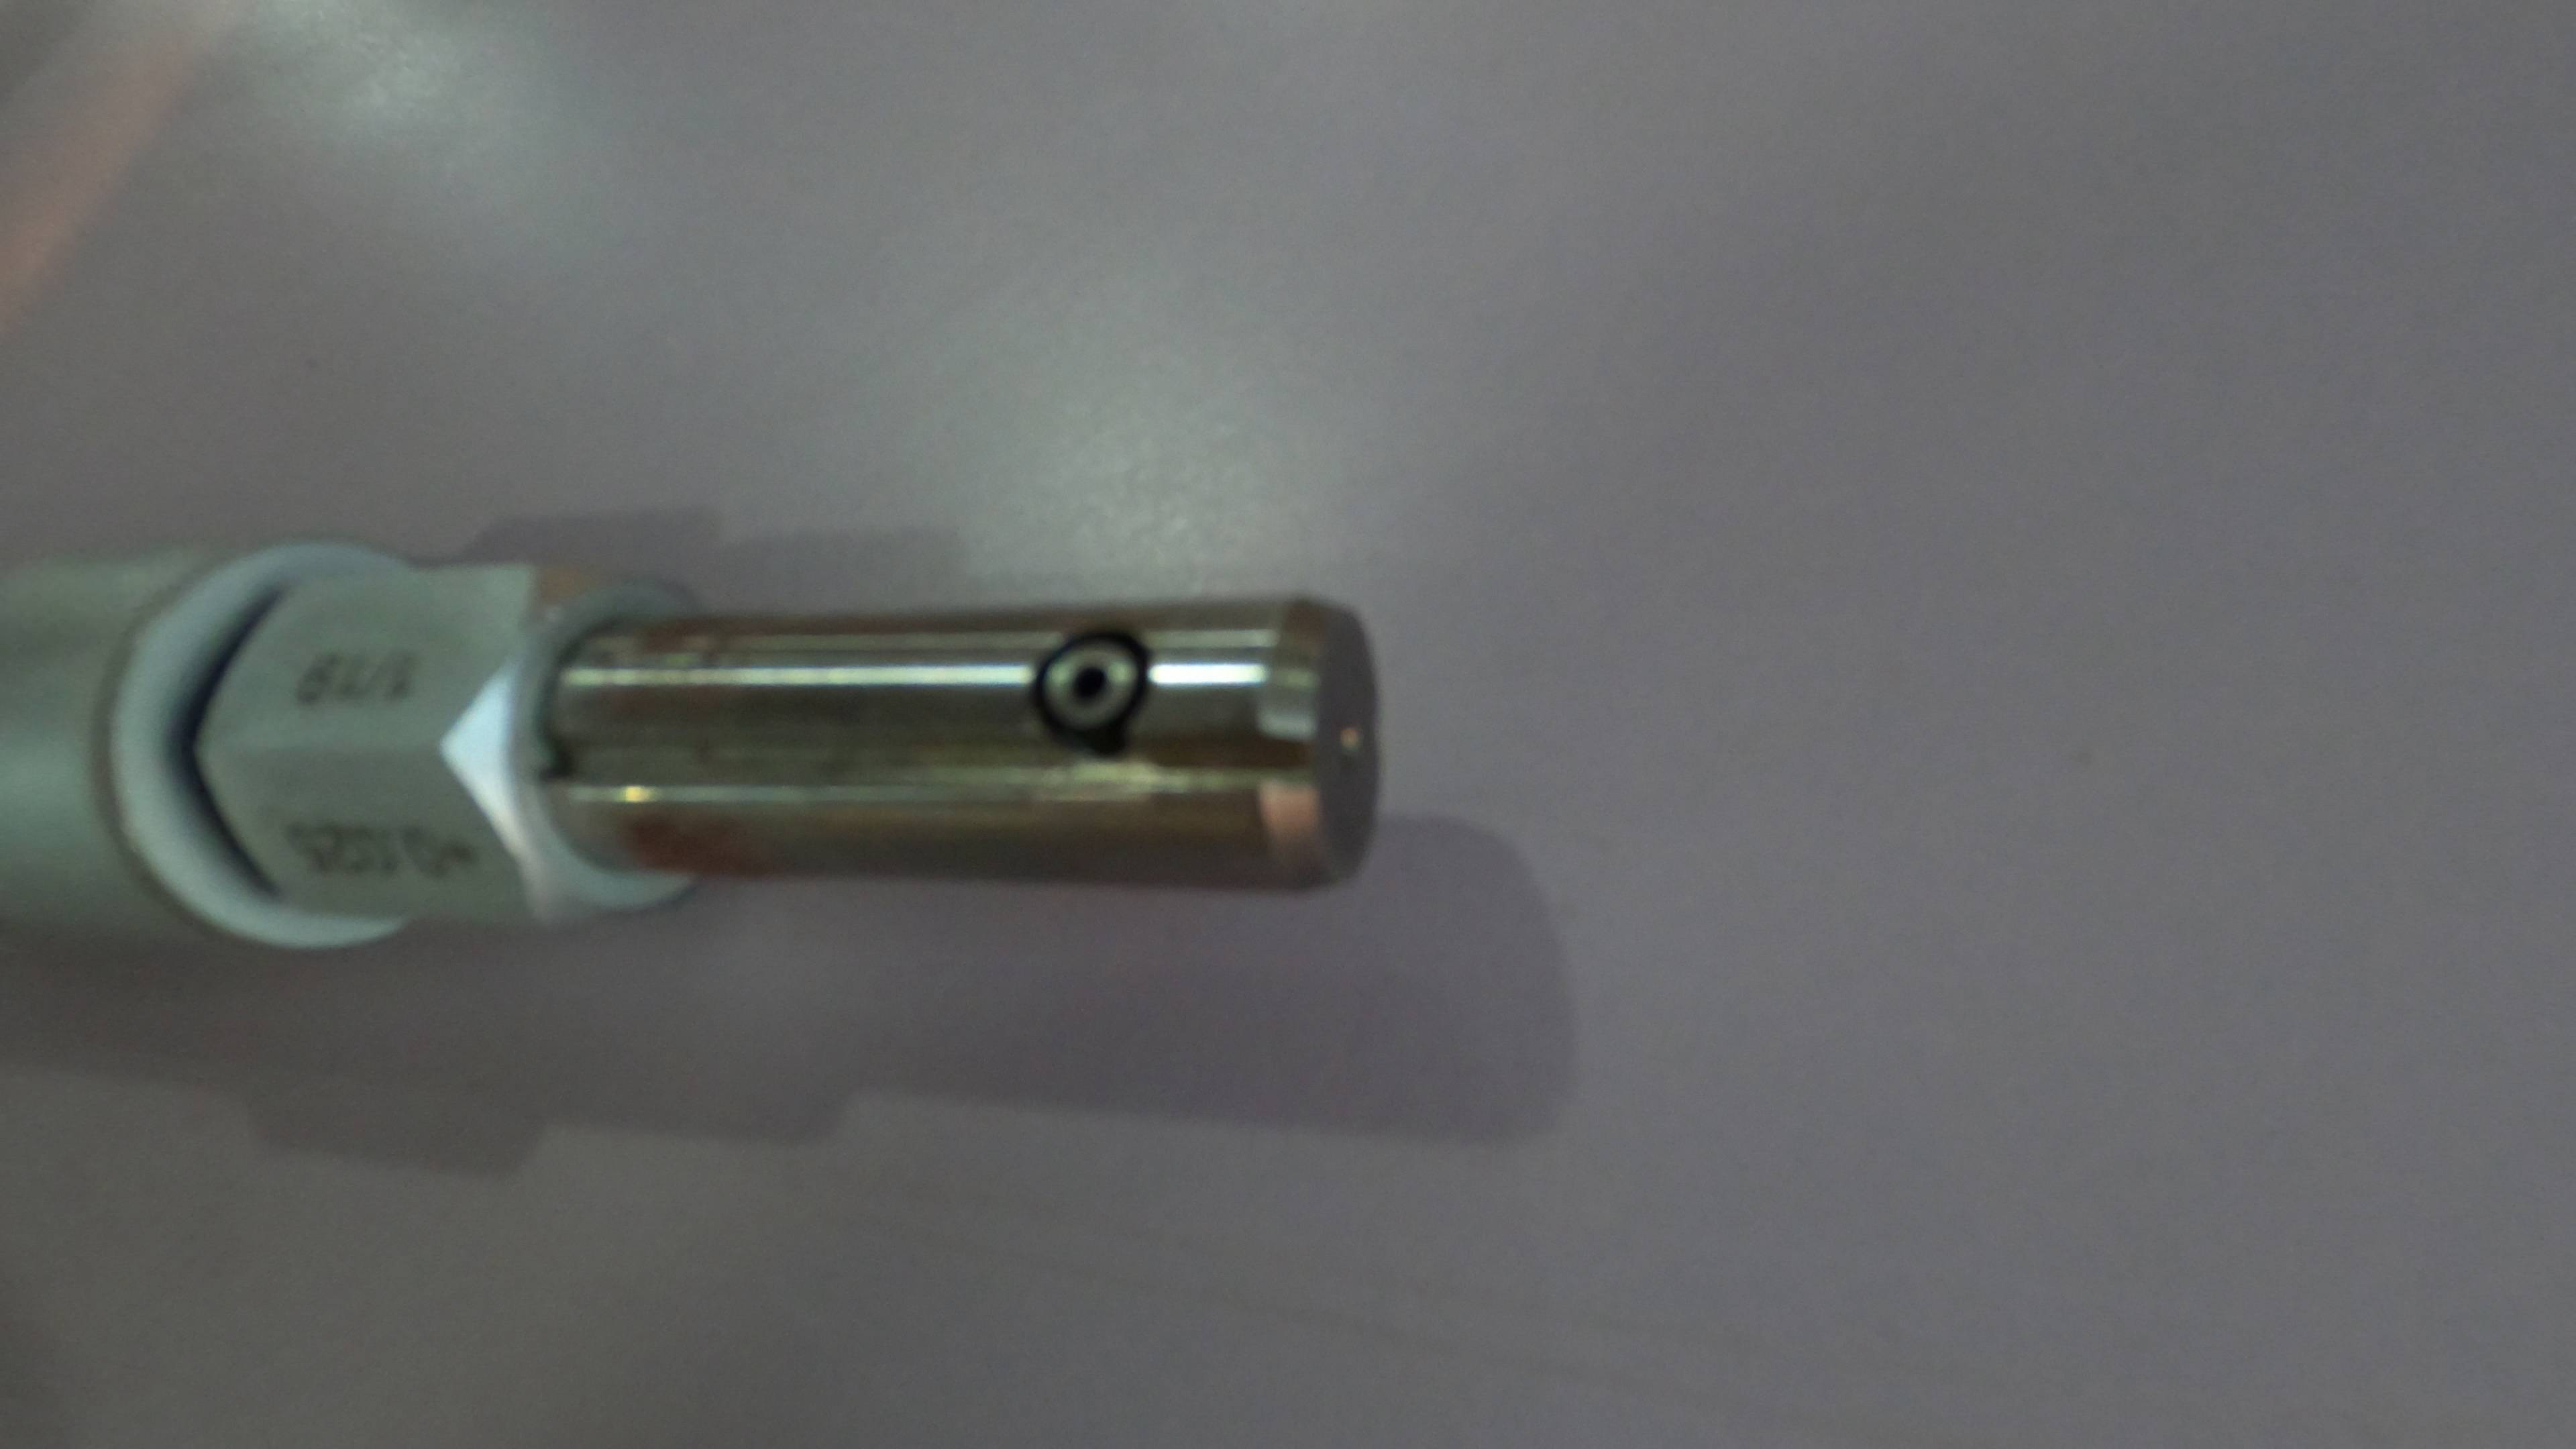air_gauge: (9, 531, 1384, 959)
